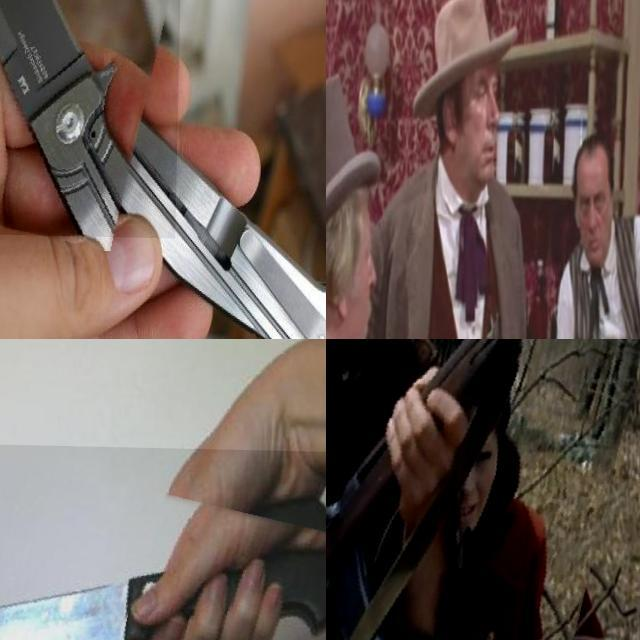-: (0, 439, 326, 640), (0, 0, 184, 236)
gun-knife-thesis - v11 Yolov5 augmented: (326, 339, 640, 640)
